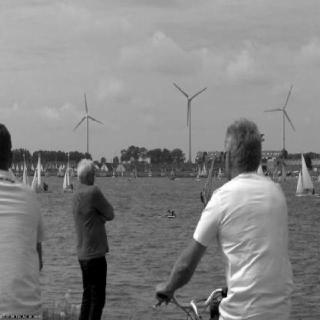other: (63, 177, 121, 256)
